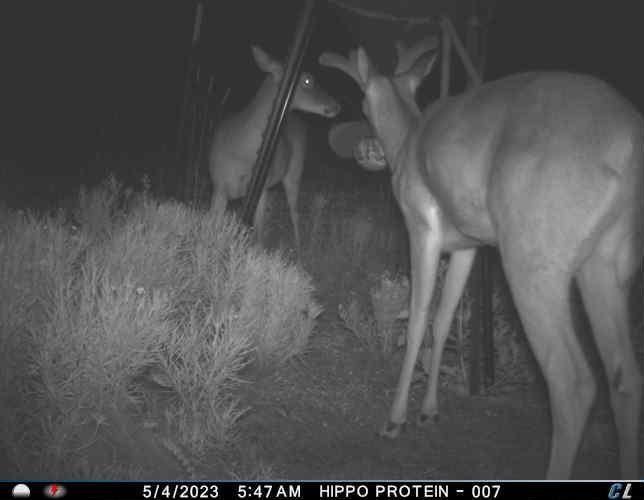Deer: (318, 31, 644, 479), (205, 36, 343, 253)
